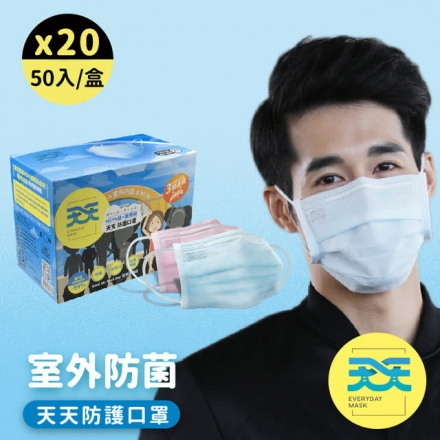Mask: (282, 108, 435, 299)
